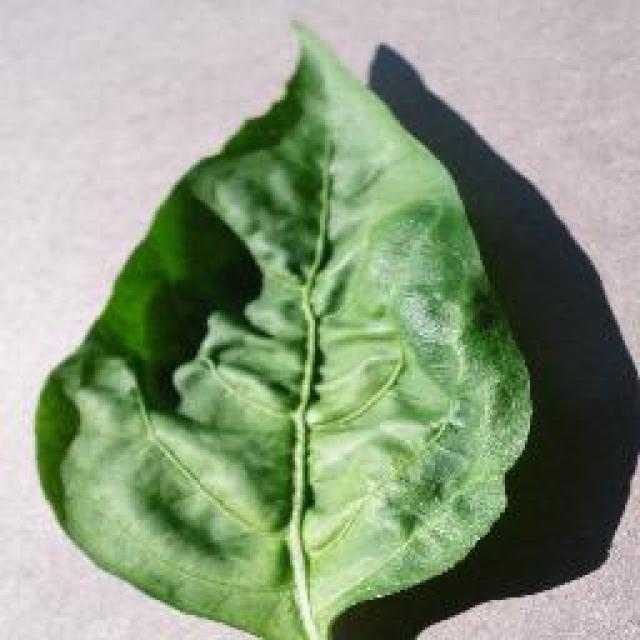Chilli_Healthy: (30, 15, 535, 637)
